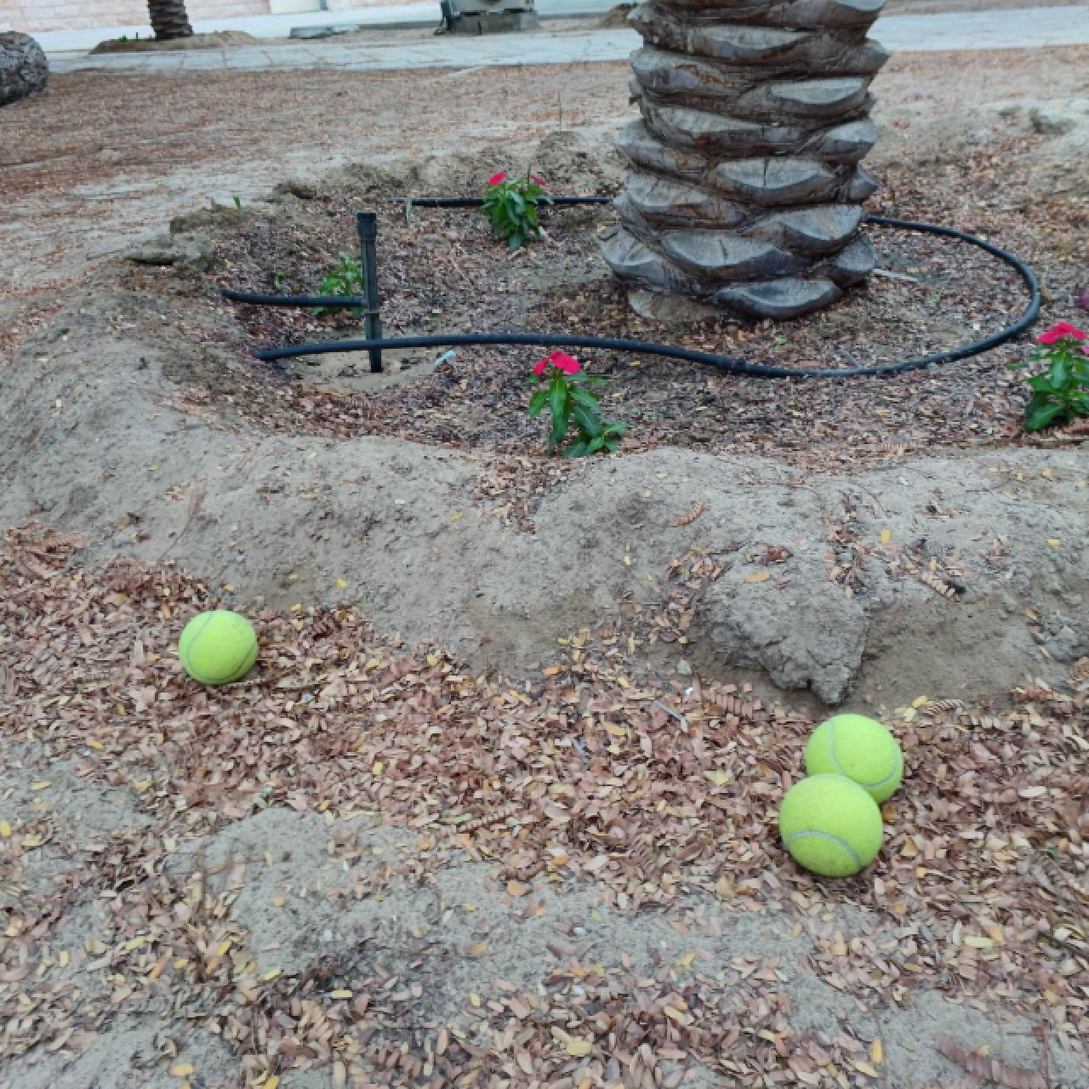tennis-ball: (778, 770, 885, 879), (803, 712, 903, 806), (178, 606, 260, 685)
